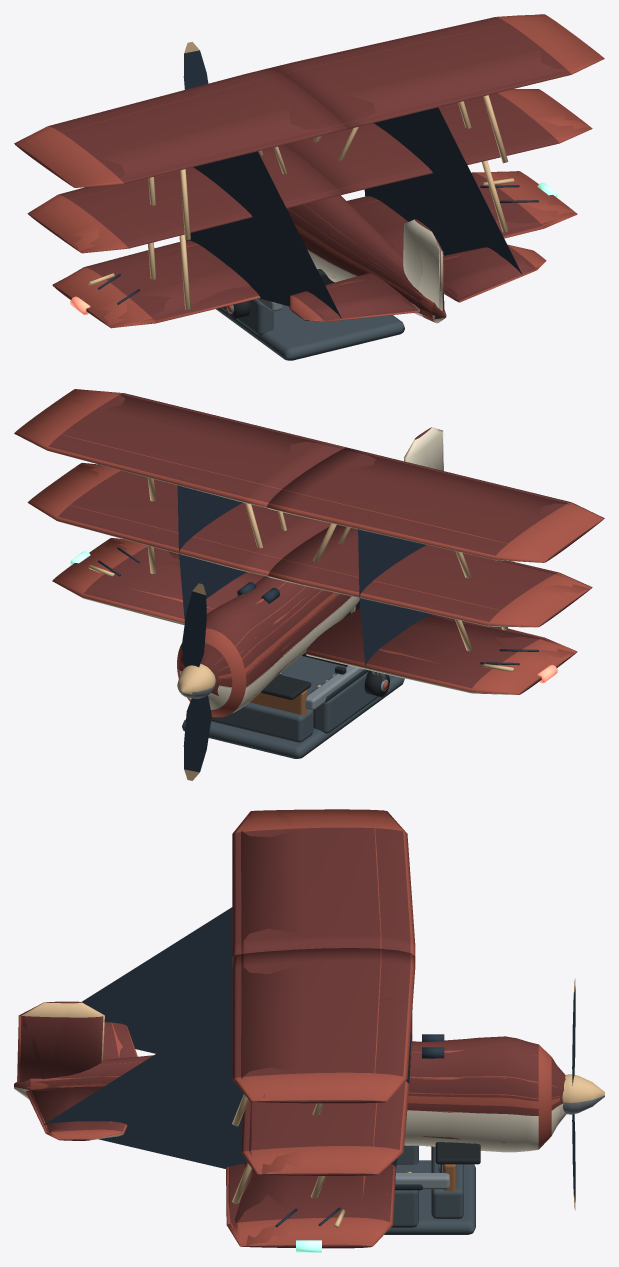
3 views of the same model, one above another, from view 1: azimuth 30°, elevation 25°; view 2: azimuth 150°, elevation 25°; view 3: azimuth 270°, elevation 25° (orthographic). The views are drawn at different scales.
Parts seen in each view (by area): view 1: Airframe shell mesh, Airframe shell.002 mesh, Airframe shell.001 mesh, Starboard wing, Port wing, Central fuselage, Cockpit shell mesh, Prop_0 mesh; view 2: Airframe shell mesh, Airframe shell.001 mesh, Airframe shell.002 mesh, Port wing, Cockpit shell mesh, Starboard wing, Central fuselage, Forward fuselage, Spinner, Gear_0 mesh; view 3: Airframe shell mesh, Starboard wing, Airframe shell.002 mesh, Airframe shell.001 mesh, Port wing, Cockpit shell mesh, Central fuselage, Forward fuselage, Spinner, Aft nacelles.
Boxes of the visible parts, x1,y1,x2,y2 form: Airframe shell mesh: [15, 14, 603, 323]; Airframe shell.002 mesh: [25, 21, 601, 325]; Airframe shell.001 mesh: [15, 14, 603, 327]; Starboard wing: [360, 14, 604, 273]; Port wing: [14, 91, 341, 326]; Central fuselage: [180, 47, 437, 297]; Cockpit shell mesh: [216, 269, 404, 360]; Prop_0 mesh: [183, 42, 208, 89]; Airframe shell mesh: [15, 389, 603, 717]; Airframe shell.001 mesh: [15, 389, 603, 709]; Airframe shell.002 mesh: [25, 390, 601, 702]; Port wing: [358, 469, 604, 665]; Cockpit shell mesh: [182, 601, 404, 758]; Starboard wing: [14, 389, 256, 622]; Central fuselage: [177, 426, 436, 666]; Forward fuselage: [179, 584, 290, 780]; Spinner: [177, 664, 215, 698]; Gear_0 mesh: [364, 670, 389, 696]; Airframe shell mesh: [14, 809, 560, 1252]; Starboard wing: [43, 998, 412, 1245]; Airframe shell.002 mesh: [14, 809, 566, 1247]; Airframe shell.001 mesh: [19, 810, 551, 1248]; Port wing: [81, 809, 412, 1053]; Cockpit shell mesh: [384, 1142, 480, 1234]; Central fuselage: [226, 899, 422, 1167]; Forward fuselage: [423, 978, 592, 1208]; Spinner: [562, 1074, 604, 1114]; Aft nacelles: [20, 1001, 145, 1089].
Size of the model in its own units: 7.18 by 2.98 by 6.17.
